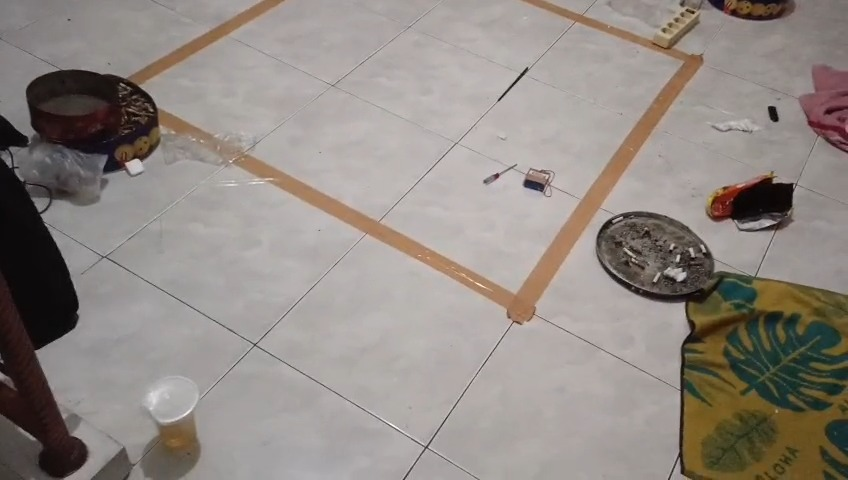floor marking: (235, 0, 702, 323), (130, 0, 282, 84), (160, 109, 223, 144)
